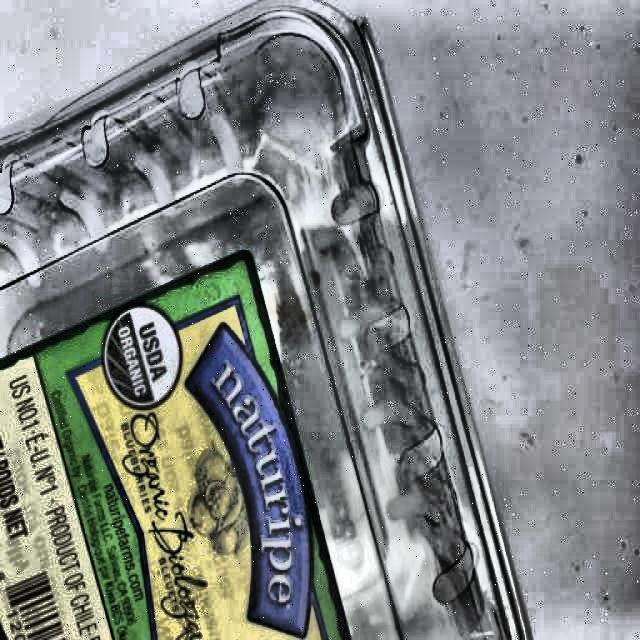plastic: (0, 0, 531, 640)
